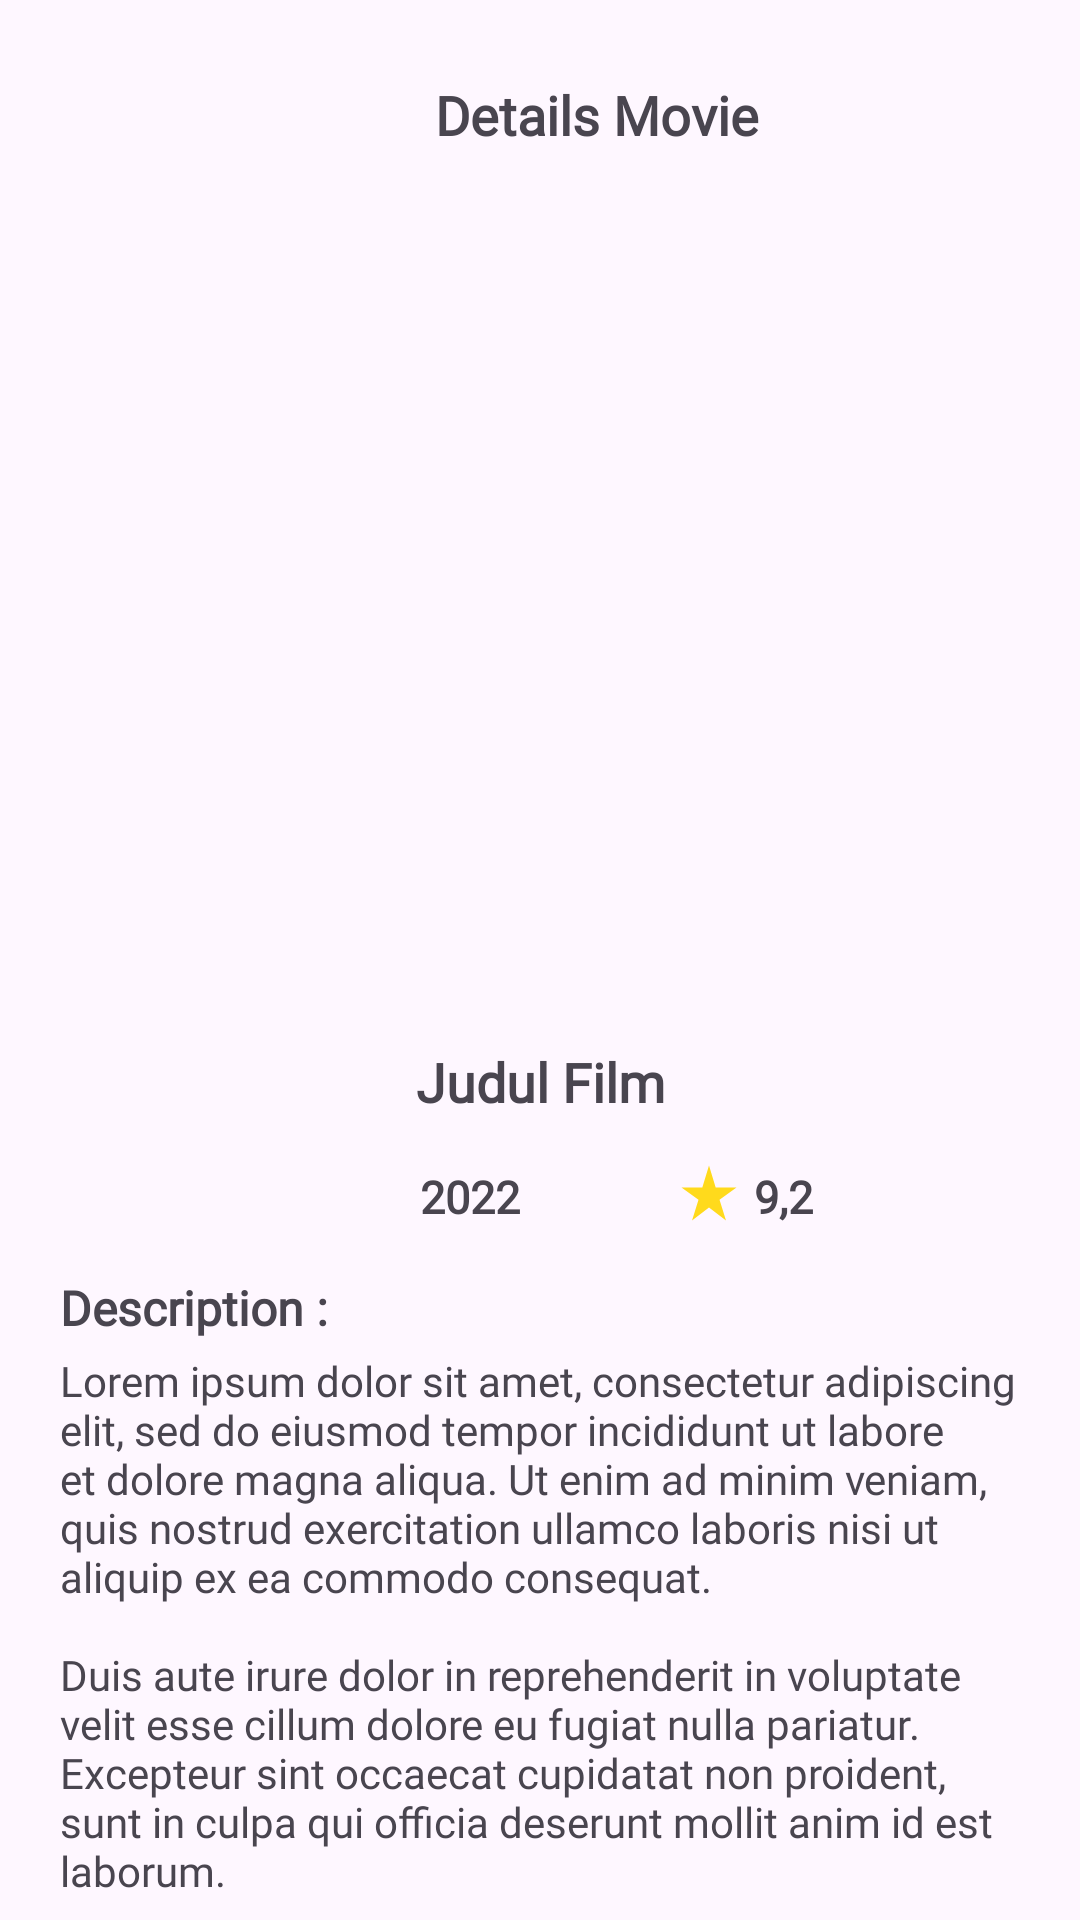

Icons on this 1080x1920 Android screen, each with the point to tap as point (x, y):
rating: point (709, 1193)
